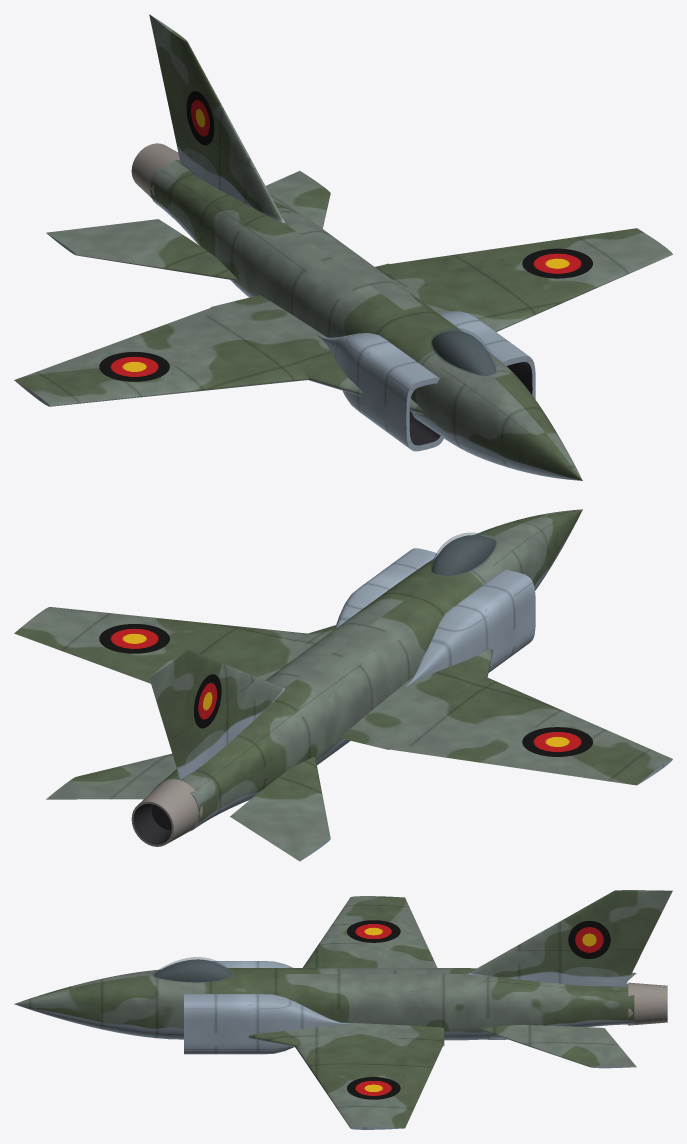
File: 22_EastGer_MiG23.glb
The picture shows the model from 3 angles, top to bottom: view 1: azimuth 30°, elevation 25°; view 2: azimuth 150°, elevation 25°; view 3: azimuth 270°, elevation 25°; orthographic projection. The views are drawn at different scales.
Visible parts, largest first — view 1: Fuselage, SwingWing1_R, SwingWing1_L, Fin3, Intake_R, Htail2_R, Glove0_R, Intake_L, Canopy, Htail2_L, Cockpit, Nozzle (+2 smaller); view 2: Fuselage, SwingWing1_R, SwingWing1_L, Fin3, Intake_R, Htail2_R, Glove0_R, Htail2_L, Nozzle, Intake_L, Canopy, Cockpit (+2 smaller); view 3: Fuselage, Fin3, SwingWing1_L, Intake_L, SwingWing1_R, Htail2_L, Glove0_L, Canopy, Nozzle, Cockpit, Decal_Fin_b, Intake_R.
Boxes of the visible parts, bbox=[...] form: Fuselage: bbox=[150, 159, 582, 480]; SwingWing1_R: bbox=[14, 307, 308, 406]; SwingWing1_L: bbox=[390, 228, 672, 331]; Fin3: bbox=[149, 14, 284, 222]; Intake_R: bbox=[316, 333, 443, 451]; Htail2_R: bbox=[46, 219, 237, 280]; Glove0_R: bbox=[211, 295, 424, 414]; Intake_L: bbox=[438, 311, 535, 399]; Canopy: bbox=[431, 328, 497, 376]; Htail2_L: bbox=[265, 171, 330, 228]; Cockpit: bbox=[432, 331, 496, 375]; Nozzle: bbox=[131, 143, 179, 197]; Fuselage: bbox=[152, 509, 582, 831]; SwingWing1_R: bbox=[390, 677, 672, 785]; SwingWing1_L: bbox=[14, 607, 306, 683]; Fin3: bbox=[149, 649, 284, 780]; Intake_R: bbox=[405, 570, 535, 687]; Htail2_R: bbox=[230, 757, 330, 861]; Glove0_R: bbox=[340, 648, 493, 749]; Htail2_L: bbox=[46, 753, 176, 799]; Nozzle: bbox=[131, 779, 202, 846]; Intake_L: bbox=[335, 548, 438, 628]; Canopy: bbox=[431, 533, 497, 576]; Cockpit: bbox=[432, 535, 496, 575]; Fuselage: bbox=[14, 968, 634, 1040]; Fin3: bbox=[467, 890, 672, 986]; SwingWing1_L: bbox=[294, 1042, 442, 1129]; Intake_L: bbox=[184, 994, 351, 1054]; SwingWing1_R: bbox=[303, 896, 437, 967]; Htail2_L: bbox=[479, 1025, 636, 1068]; Glove0_L: bbox=[248, 1022, 444, 1046]; Canopy: bbox=[152, 957, 232, 982]; Nozzle: bbox=[628, 982, 667, 1025]; Cockpit: bbox=[154, 959, 231, 982]; Decal_Fin_b: bbox=[568, 921, 610, 958]; Intake_R: bbox=[211, 961, 293, 967].
Size of the model in its own units: 13.97 by 4.2 by 16.85.
Materials: 6 (2 with a texture image).
